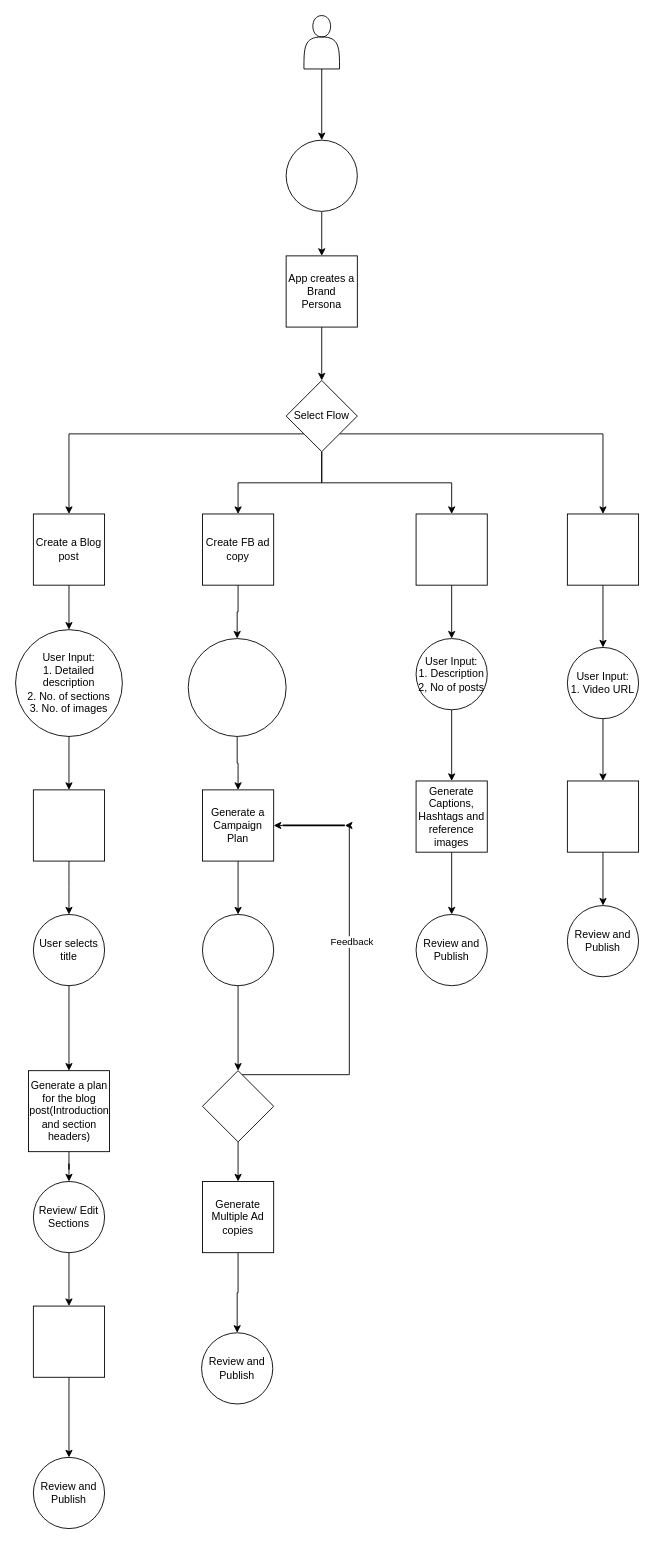
Image size: 654x1544. Some labels were removed from this diagram. The box of each missing label's shape, as (x1, y1, x2, y2) in pixels:
Continue: (202, 1070, 274, 1142)
Create Instagram Post: (415, 513, 487, 585)
Generate a Final Draft: (32, 1305, 105, 1377)
Generate an Entire blog from the video: (566, 780, 639, 852)
Generate Titles: (32, 789, 105, 861)
Repurpose video to a Blog: (566, 513, 639, 585)
User enters website: (285, 139, 357, 211)
User Input: 1. Ad Objective 2. Ad details: (187, 638, 286, 736)
User reviews and provide feedback: (202, 914, 274, 986)
